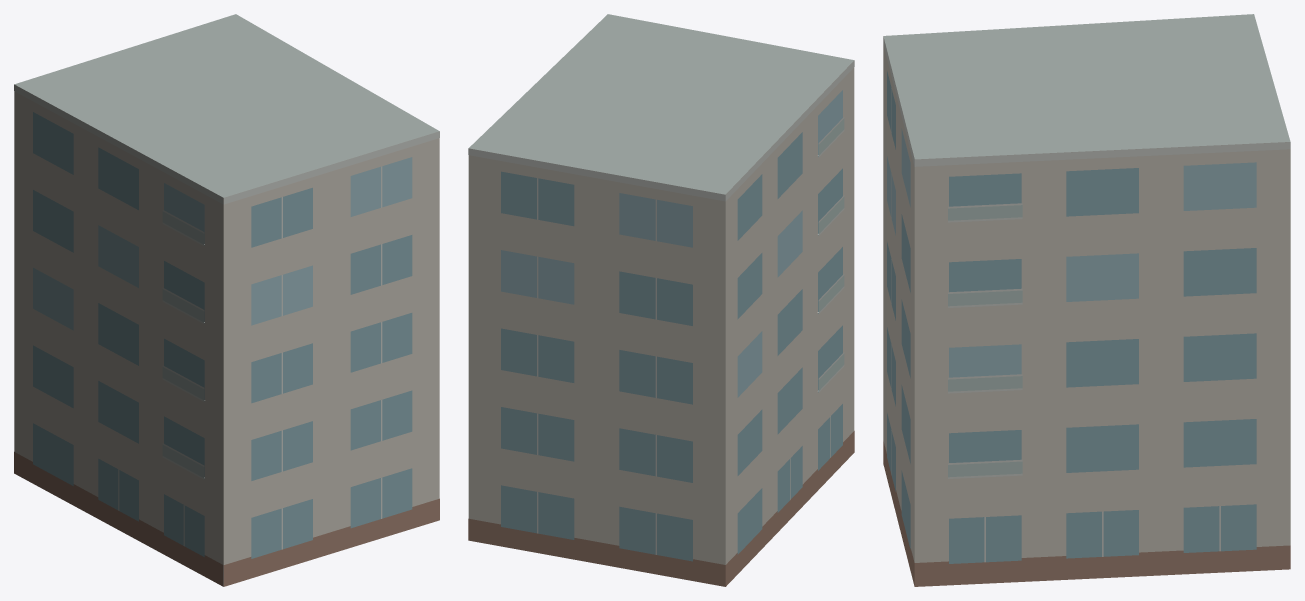
Rendered from survey-upis-32716163.glb.
3 views of the same model, side by side, from view 1: azimuth 30°, elevation 25°; view 2: azimuth 150°, elevation 25°; view 3: azimuth 270°, elevation 25° (orthographic). The views are drawn at different scales.
Parts seen in each view (by area): view 1: survey-upis-32716163.tmp; view 2: survey-upis-32716163.tmp; view 3: survey-upis-32716163.tmp.
Boxes of the visible parts, x1,y1,x2,y2 form: survey-upis-32716163.tmp: [14, 14, 439, 586]; survey-upis-32716163.tmp: [468, 14, 854, 586]; survey-upis-32716163.tmp: [883, 14, 1290, 586].
Bounding box in the file's own units: 10.22 × 14 × 12.1.
